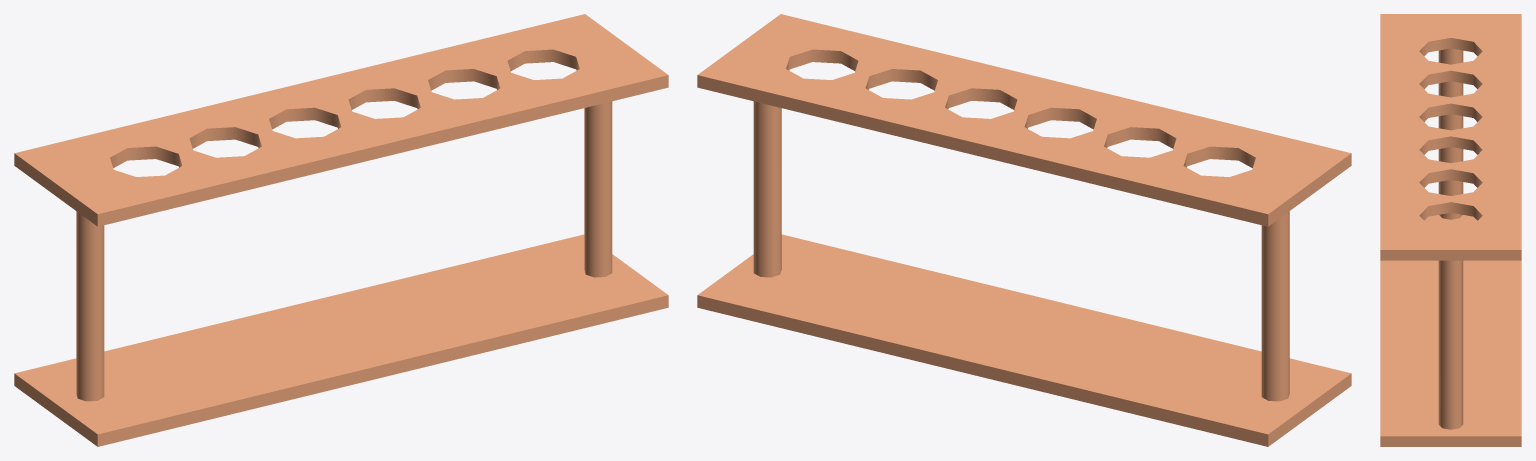
Rendered from bottle_test_tube_rack.fbx.
3 views of the same model, side by side, from view 1: azimuth 30°, elevation 25°; view 2: azimuth 150°, elevation 25°; view 3: azimuth 270°, elevation 25° (orthographic). The views are drawn at different scales.
Parts seen in each view (by area): view 1: bottle_test_tube_rack; view 2: bottle_test_tube_rack; view 3: bottle_test_tube_rack.
Part boxes in pixels (x1=…): bottle_test_tube_rack: x1=14, y1=14, x2=668, y2=446; bottle_test_tube_rack: x1=697, y1=14, x2=1351, y2=446; bottle_test_tube_rack: x1=1380, y1=14, x2=1521, y2=446.
Size of the model in its own units: 3660 by 1425 by 927.
1 material, 1 textured.
